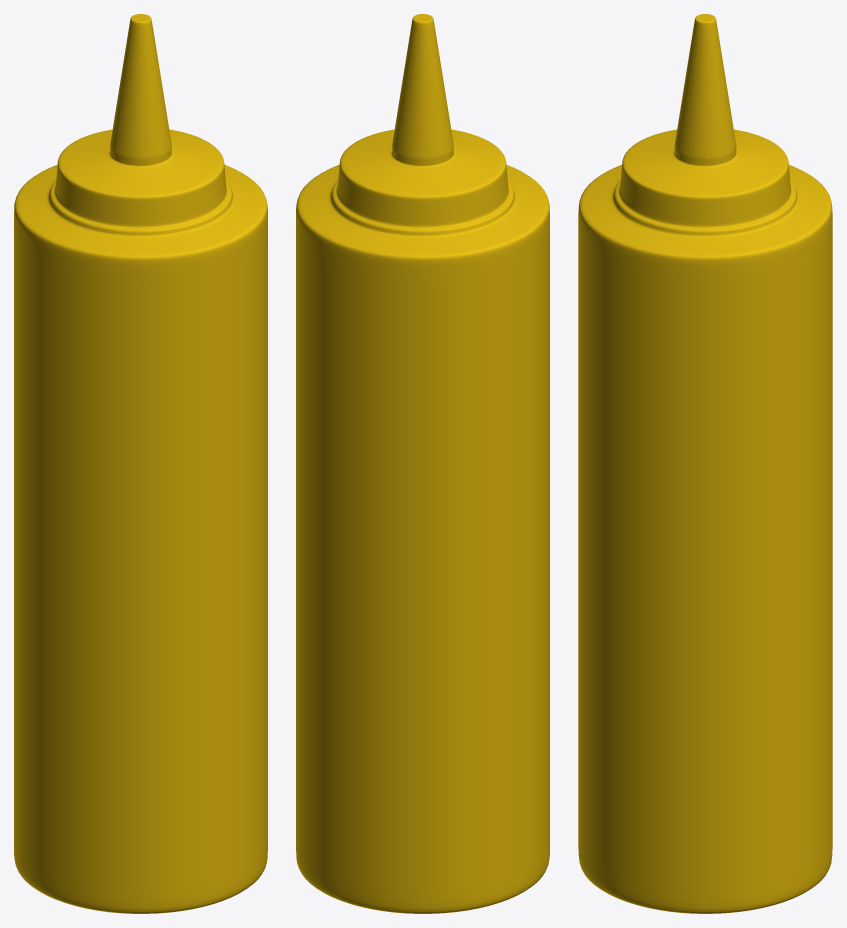
Rendered from maio.fbx.
The picture shows the model from 3 angles, left to right: view 1: azimuth 30°, elevation 25°; view 2: azimuth 150°, elevation 25°; view 3: azimuth 270°, elevation 25°; orthographic projection.
Parts seen in each view (by area): view 1: maionese; view 2: maionese; view 3: maionese.
Boxes of the visible parts, x1,y1,x2,y2 form: maionese: (14, 14, 267, 913); maionese: (296, 14, 549, 913); maionese: (578, 14, 832, 913).
Bounding box in the file's own units: 382 × 1403 × 382.
